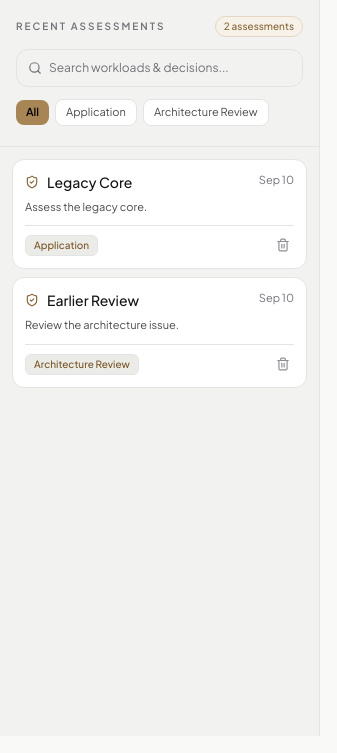
Test: Public Governance Routes (/privacy & /terms) › presents legacy assessment categories with current user-facing labels
expect the button "Application" is shown: met, box [55,99,137,126]
Click the button "Architecture Review" at (206, 112), box [143,99,269,126]
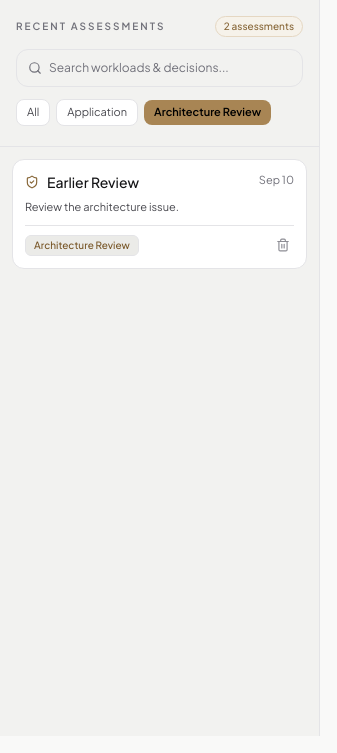
expect the heading "Earlier Review" is shown: met, box [47,172,139,192]
expect the heading "Legacy Core" is gone: met
